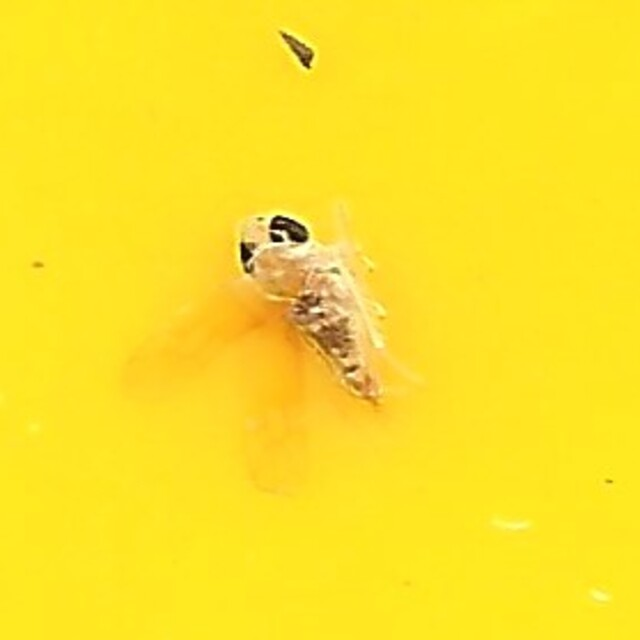Hemiptera: (229, 207, 411, 433)
